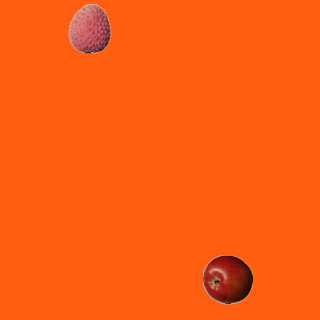Apple Braeburn: (202, 254, 252, 304)
Lychee: (64, 3, 114, 53)
